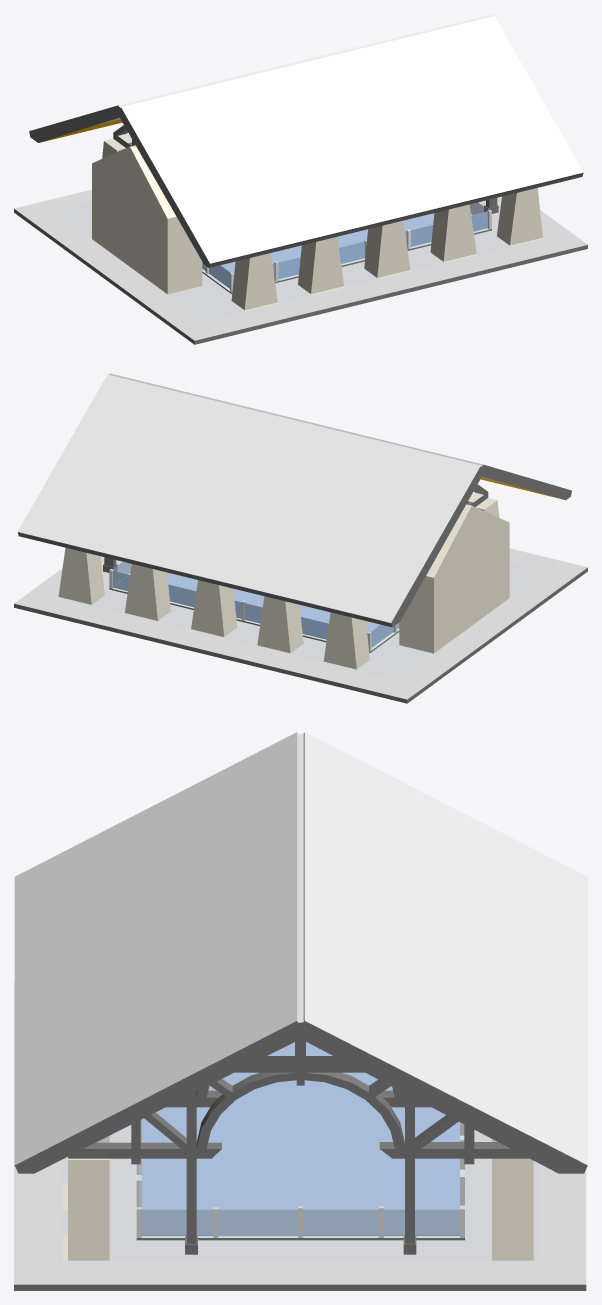
Rendered from Pavilion_WinterIceRink.glb.
The picture shows the model from 3 angles, top to bottom: view 1: azimuth 30°, elevation 25°; view 2: azimuth 150°, elevation 25°; view 3: azimuth 270°, elevation 25°; orthographic projection. The views are drawn at different scales.
Parts seen in each view (by area): view 1: Mesh23 Component_1_1 Model, Mesh24 Component_1_1 Model; view 2: Mesh23 Component_1_1 Model, Mesh24 Component_1_1 Model, Mesh4 Group1 Component_1_1 Model, Mesh30 Component_1_1 Model; view 3: Mesh23 Component_1_1 Model, Mesh24 Component_1_1 Model.
Part boxes in pixels (x1=…): Mesh23 Component_1_1 Model: x1=29, y1=14, x2=583, y2=311; Mesh24 Component_1_1 Model: x1=14, y1=189, x2=587, y2=344; Mesh23 Component_1_1 Model: x1=17, y1=373, x2=571, y2=669; Mesh24 Component_1_1 Model: x1=14, y1=548, x2=587, y2=703; Mesh4 Group1 Component_1_1 Model: x1=109, y1=569, x2=262, y2=623; Mesh30 Component_1_1 Model: x1=301, y1=617, x2=327, y2=639; Mesh23 Component_1_1 Model: x1=14, y1=732, x2=587, y2=1260; Mesh24 Component_1_1 Model: x1=14, y1=980, x2=586, y2=1290.
Size of the model in its own units: 412 by 169 by 329.
